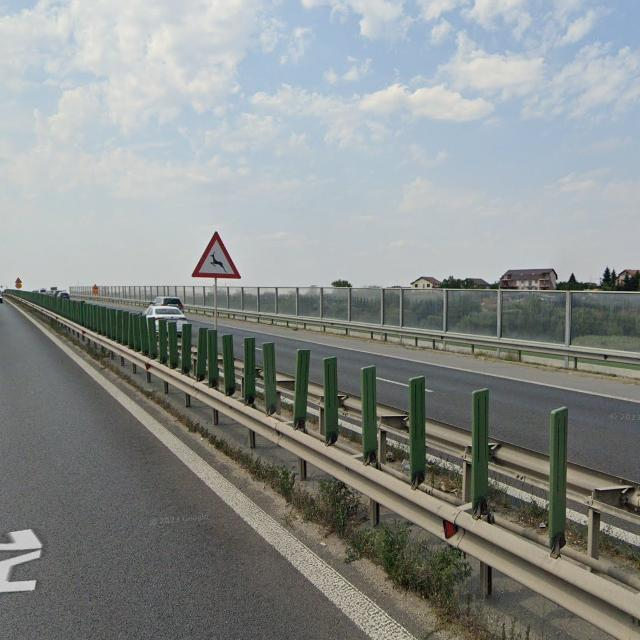forb_speed_over_60: (191, 231, 241, 279)
